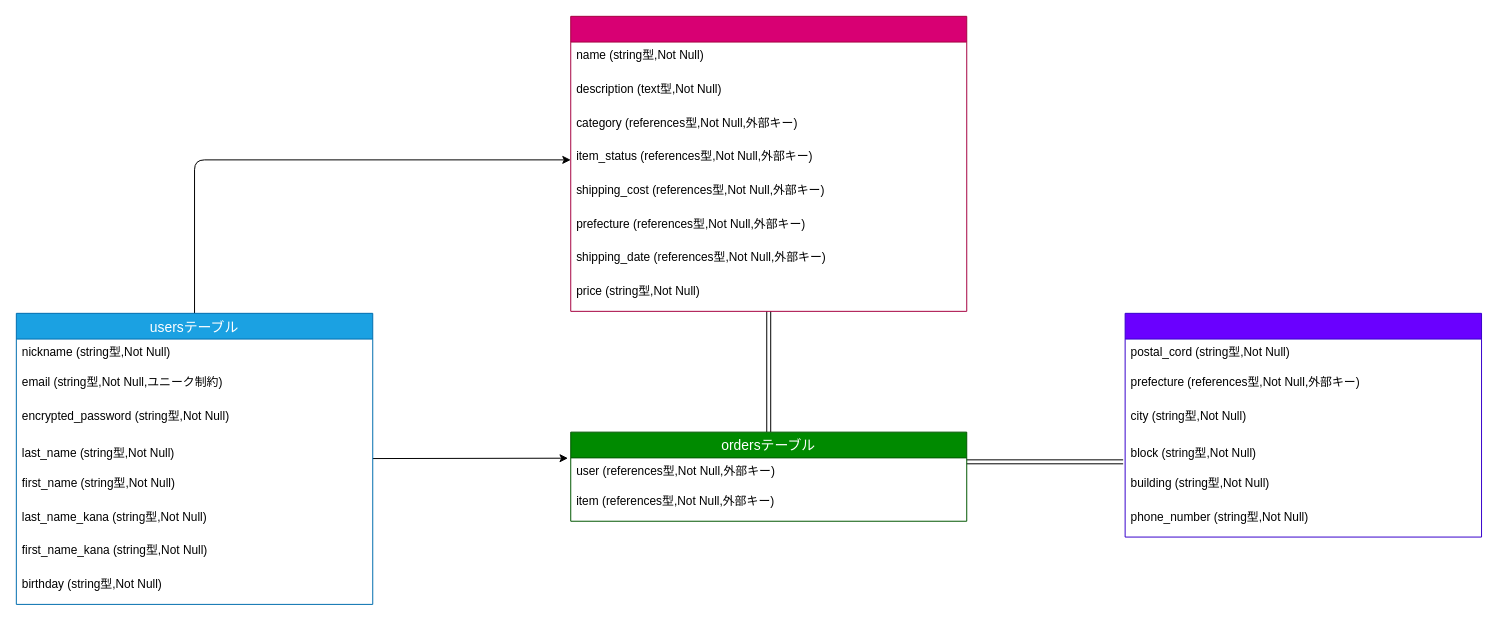
This 1498x621 diagram has some shape labels left out. Each missing label, with the box of its shape:
Addressesテーブル: (1124, 312, 1482, 537)
itemsテーブル: (570, 15, 967, 311)
